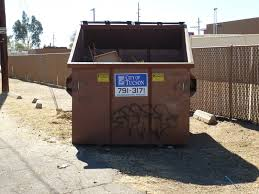Dumpster: (62, 19, 203, 151)
